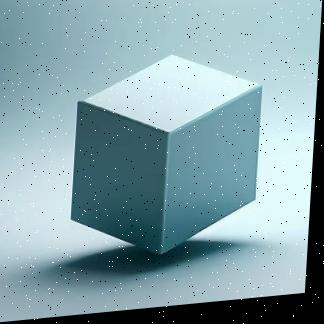cube: (71, 54, 266, 265)
